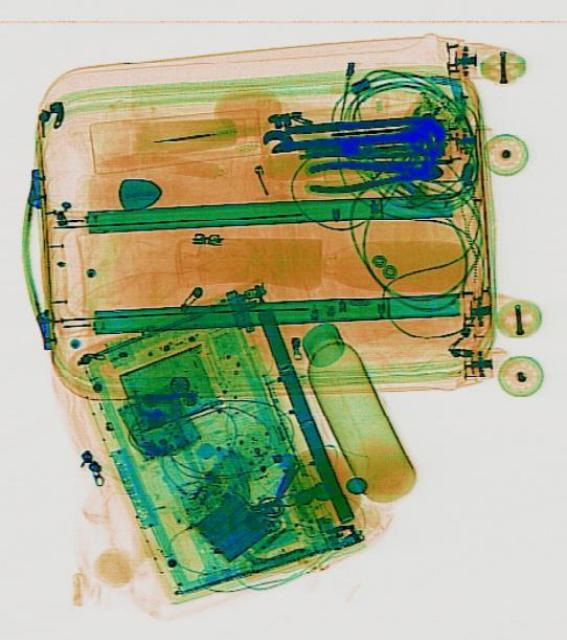Pliers: (305, 156, 442, 192)
Wrench: (261, 119, 442, 153)
